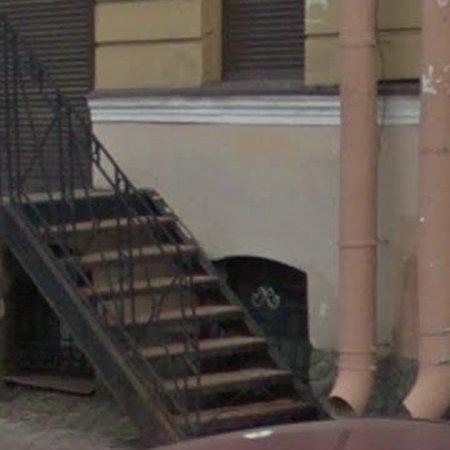stairs: (0, 17, 320, 444)
